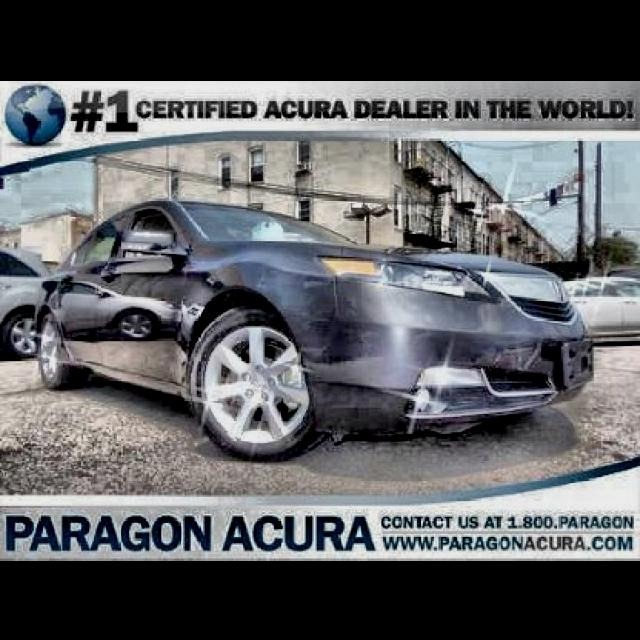black: (37, 200, 594, 456)
